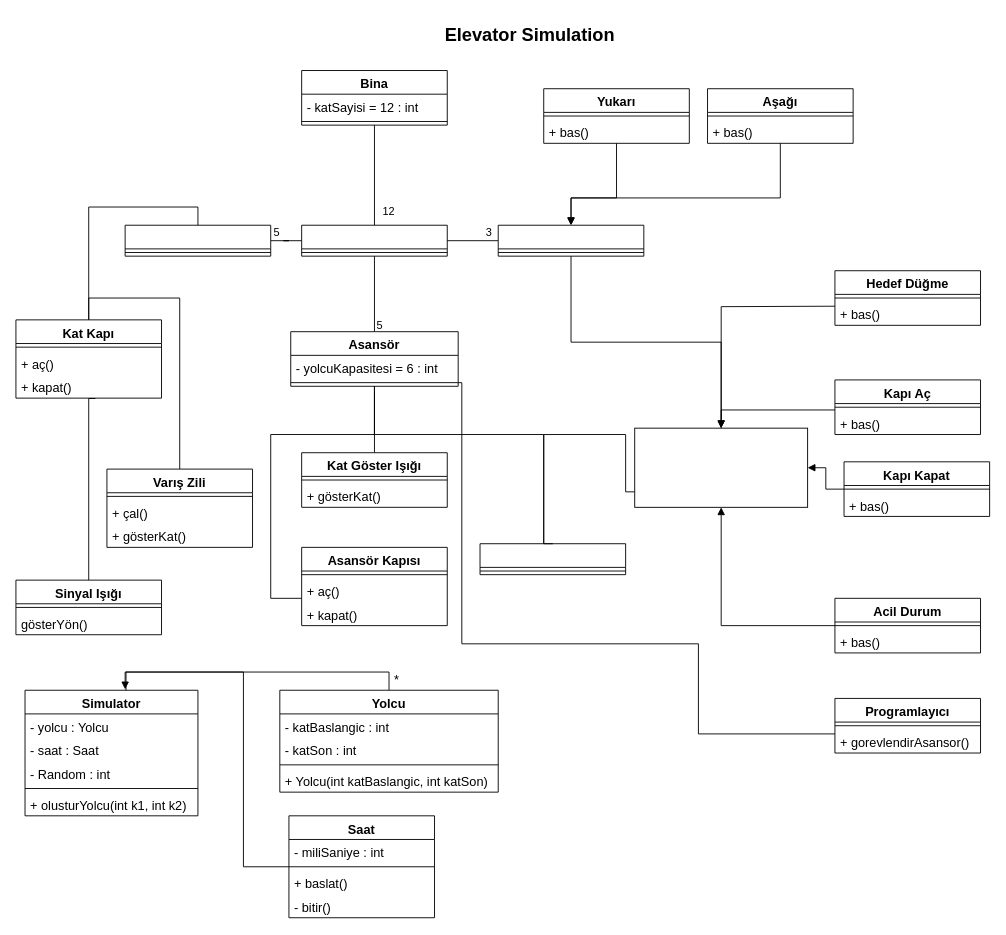
Image size: 1006x935. Some labels were removed from this diagram. Here are the shapes that lost their labels. From the top down, the centre of each, then its label:
At [197,240]: "Asansör Boşluk".
At [374,240]: "Kat".
At [570,240]: "Asansör Çağrı".
At [721,467]: "<<Interface>> IButton + bas()".
At [552,559]: "Kontrol Paneli".
